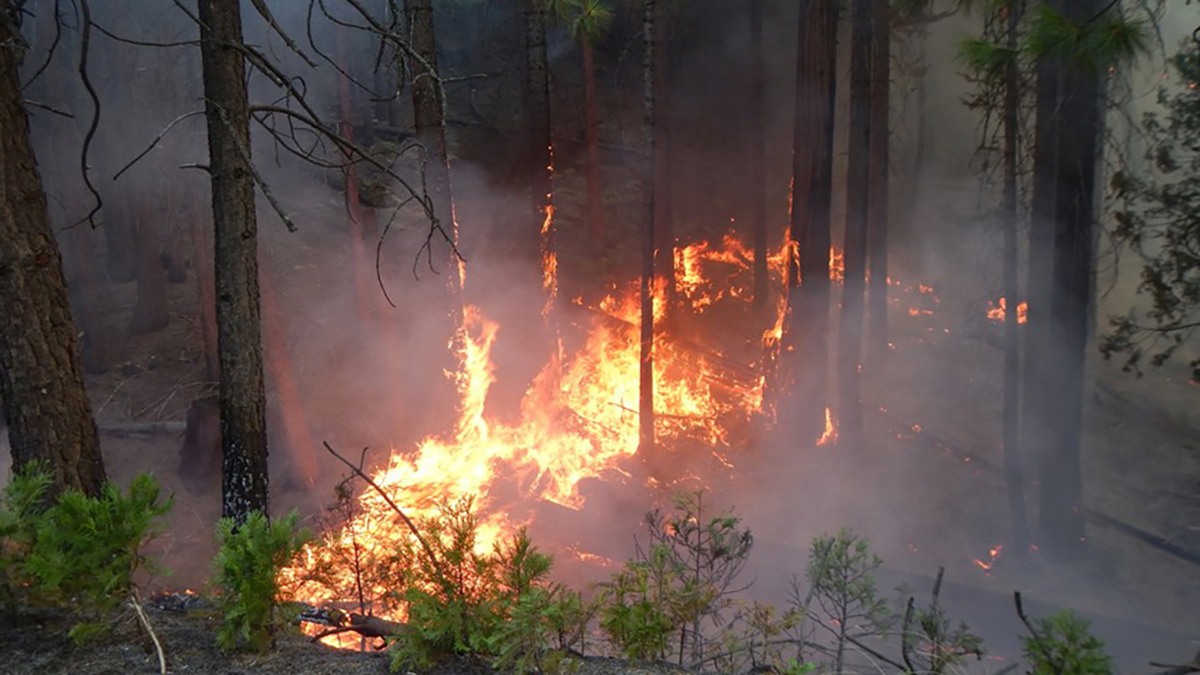fire: (525, 130, 1037, 474), (213, 265, 597, 656)
